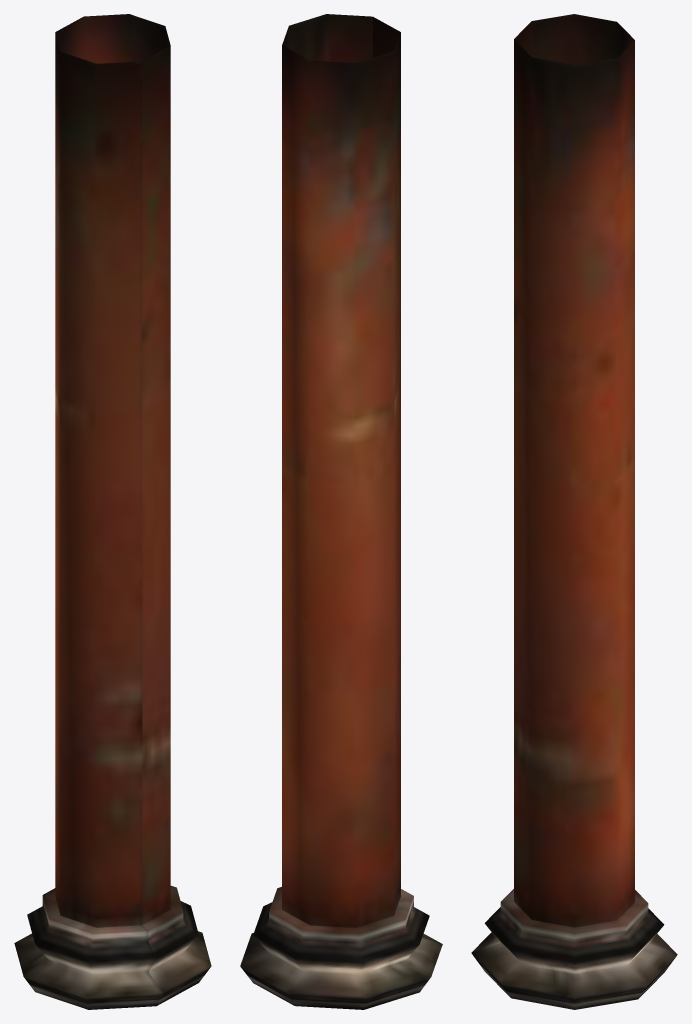
Rendered from ian0012.obj.
The picture shows the model from 3 angles, left to right: view 1: azimuth 30°, elevation 25°; view 2: azimuth 150°, elevation 25°; view 3: azimuth 270°, elevation 25°; orthographic projection.
Parts seen in each view (by area): view 1: ian0012; view 2: ian0012; view 3: ian0012.
Boxes of the visible parts, x1,y1,x2,y2 form: ian0012: (14,14,211,1009); ian0012: (240,14,442,1009); ian0012: (471,14,677,1009).
Size of the model in its own units: 14.45 by 71.94 by 14.44.
